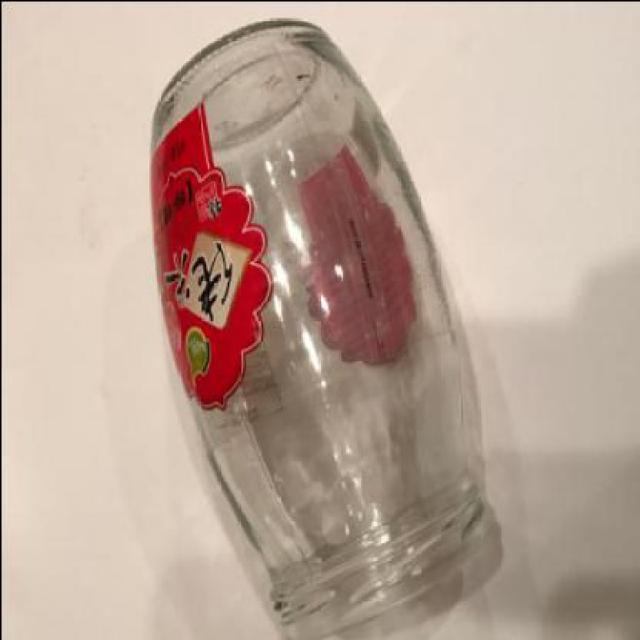glass: (148, 16, 483, 638)
